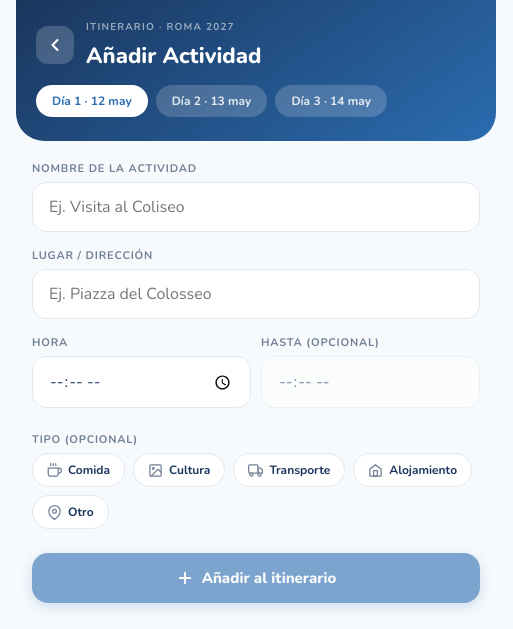
Test: AnadirActividad › no deja poner hora de fin hasta que hay hora de inicio
Expected: the time field labelled "Hasta (opcional)" is disabled, top-left (261, 356), bottom-right (480, 408)
Type "10:00" into the time field labelled "Hora" at [142, 382], box top-left (32, 356), bottom-right (251, 408)
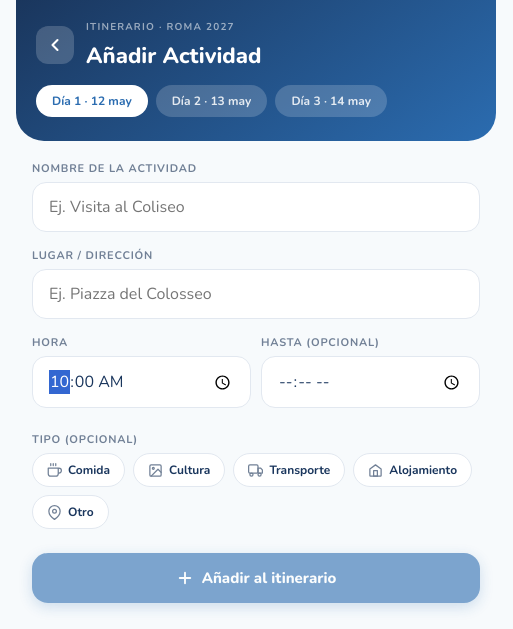
Result: the time field labelled "Hasta (opcional)" is enabled at top-left (261, 356), bottom-right (480, 408)
